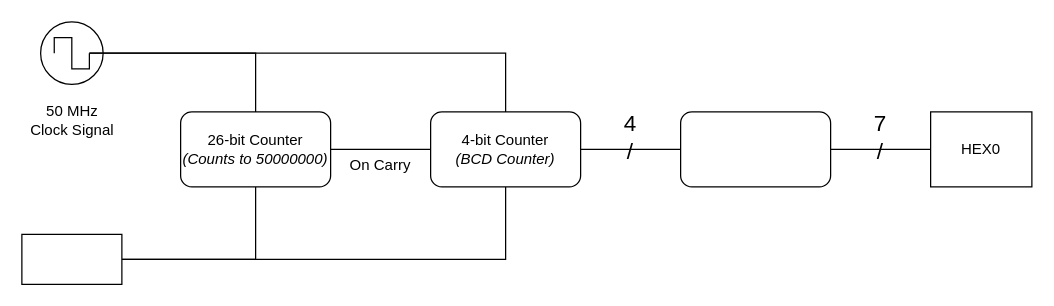
Image size: 1054x306. Some labels were removed from this diagram. Here are the shapes that lost their labels. From the top down, the box of each, then its label:
(679, 111, 831, 187): BCD to HEX Decoder
(21, 233, 122, 284): KEY 0 (CLR)
